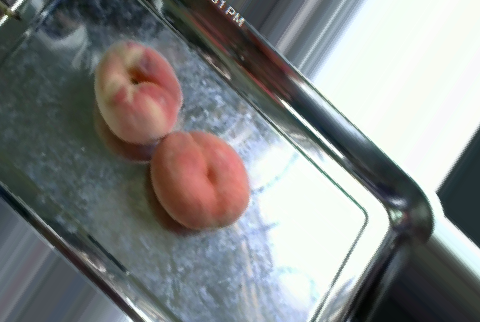Peach: (152, 128, 253, 229), (93, 39, 182, 145)
